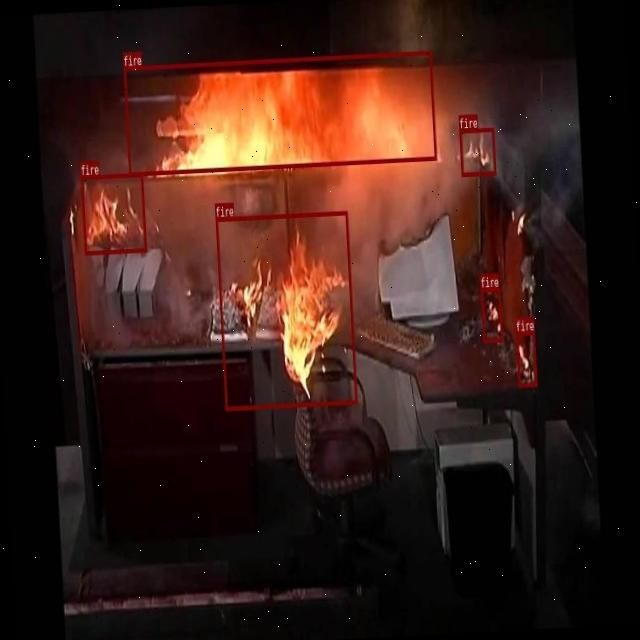fire: (124, 51, 436, 176), (215, 210, 358, 410), (80, 172, 146, 254), (460, 128, 496, 176), (480, 288, 502, 342), (516, 331, 537, 387)
